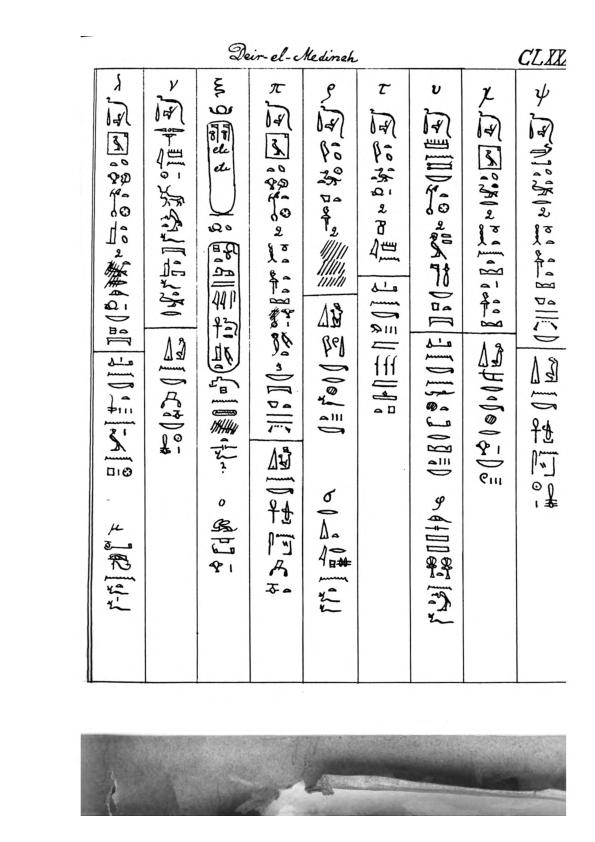circle: (204, 238, 242, 376), (203, 117, 239, 218)
